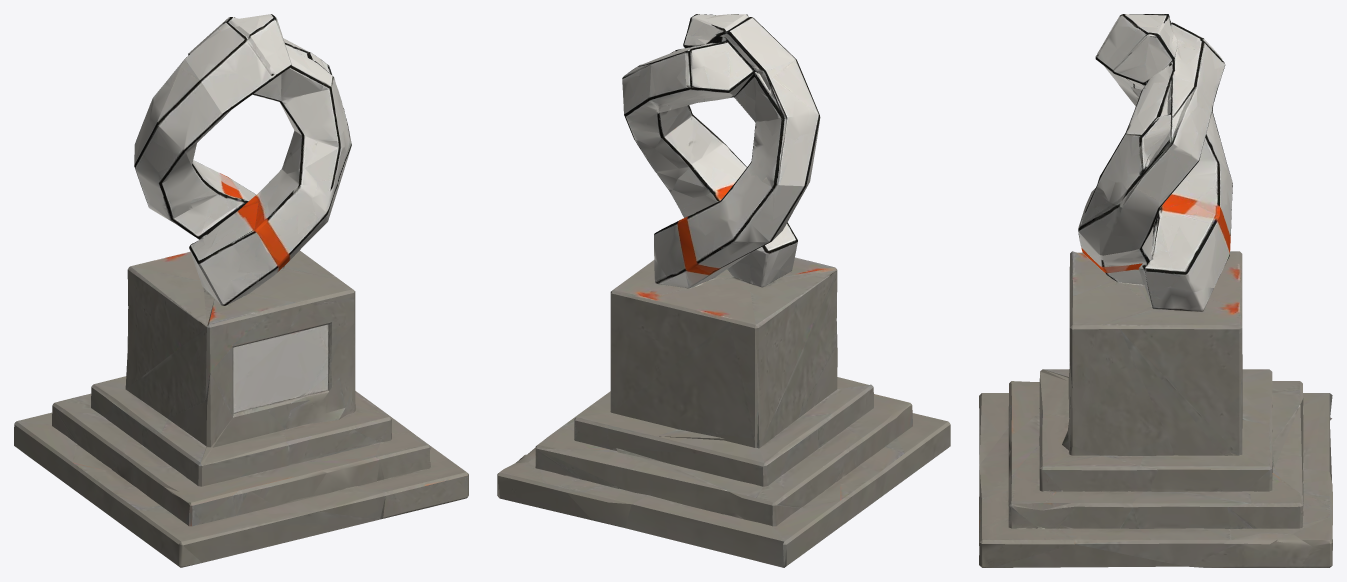
The model's file is huggingface.glb.
The picture shows the model from 3 angles, left to right: view 1: azimuth 30°, elevation 25°; view 2: azimuth 150°, elevation 25°; view 3: azimuth 270°, elevation 25°; orthographic projection. The views are drawn at different scales.
Bounding box in the file's own units: 1.28 × 1.9 × 1.28.
1 material, 1 textured.
